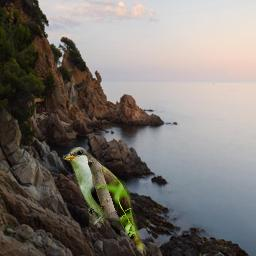Cuckoo: (60, 147, 151, 256)
